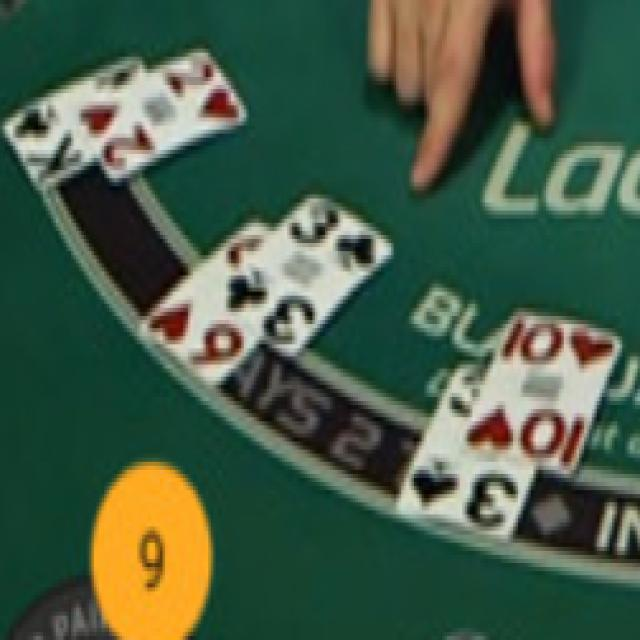Card-10: (459, 304, 621, 475)
Card-2: (71, 45, 247, 184)
Card-3: (217, 189, 394, 357), (396, 360, 535, 540)
Card-6: (143, 218, 272, 391)
Card-K: (3, 49, 146, 194)
